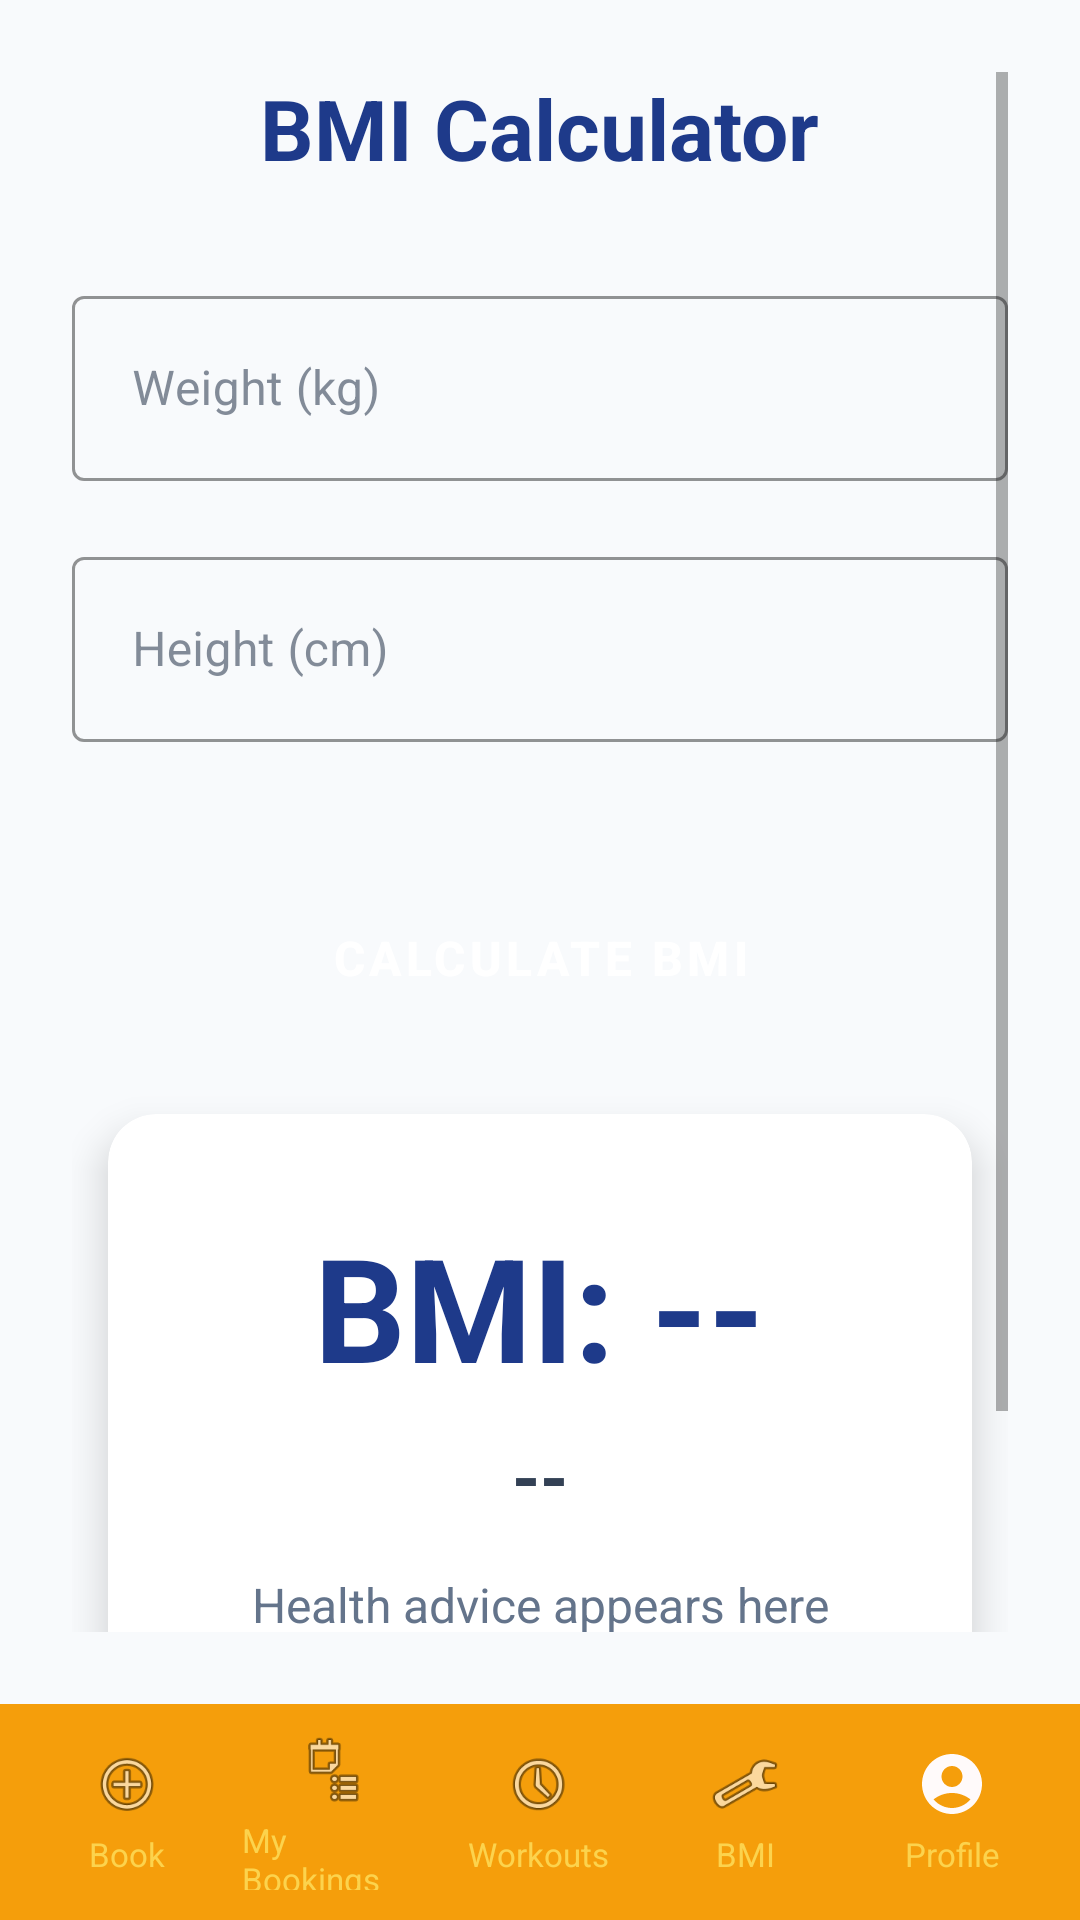

Named icons in this screenshot (1080×1920) and their bounding boxes, (x1, y1, x2, y2):
account circle: (922, 1754, 982, 1814)
add: (100, 1758, 154, 1811)
agenda: (308, 1738, 359, 1802)
manage: (712, 1759, 777, 1809)
recent history: (512, 1758, 565, 1810)
